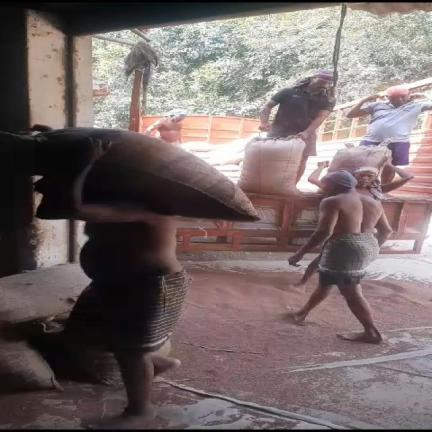Zone-Counting: (26, 128, 257, 418)
